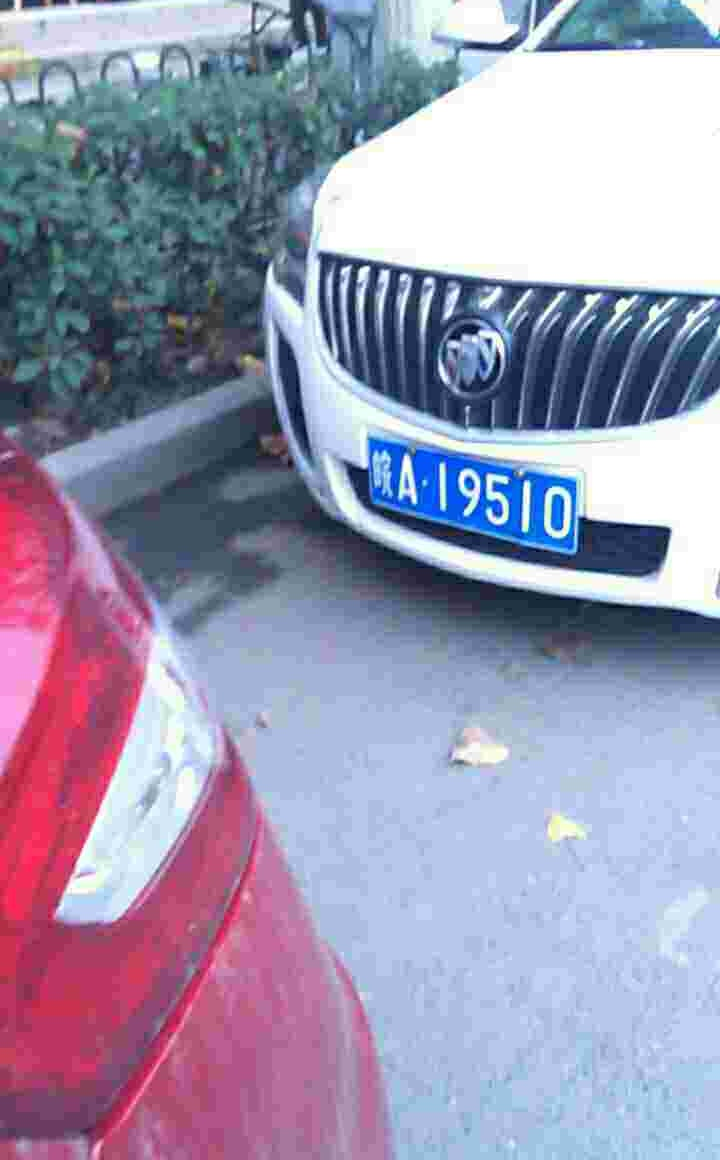license_plate: (359, 430, 594, 564)
